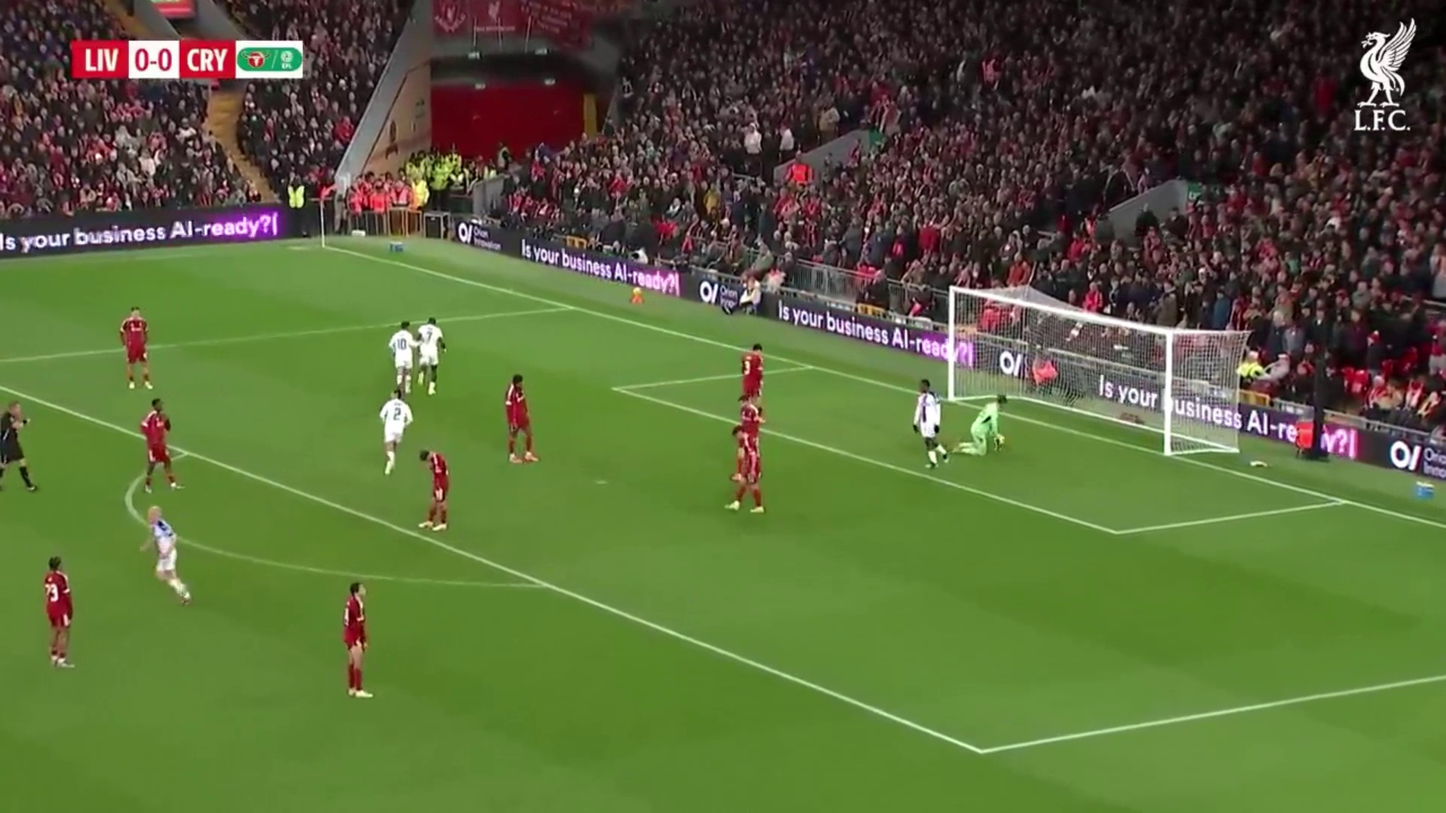player: (146, 508, 195, 606), (42, 555, 76, 670), (0, 402, 40, 495), (340, 581, 371, 698), (139, 398, 176, 485), (118, 308, 154, 393), (503, 373, 536, 463), (912, 381, 946, 468), (379, 390, 412, 477), (419, 447, 451, 530), (966, 401, 1006, 456), (414, 316, 443, 391), (389, 321, 416, 396)
